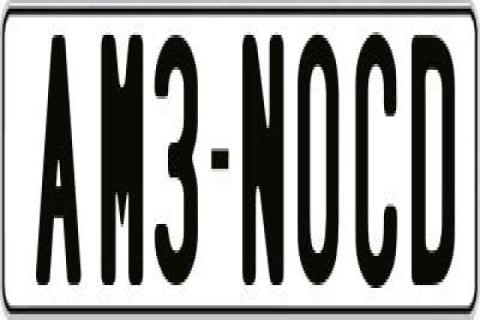0: (154, 32, 204, 300), (294, 32, 334, 291)
A: (34, 26, 82, 276)
C: (354, 29, 398, 291)
D: (410, 27, 458, 286)
M: (101, 32, 146, 300)
N: (240, 35, 286, 294)
